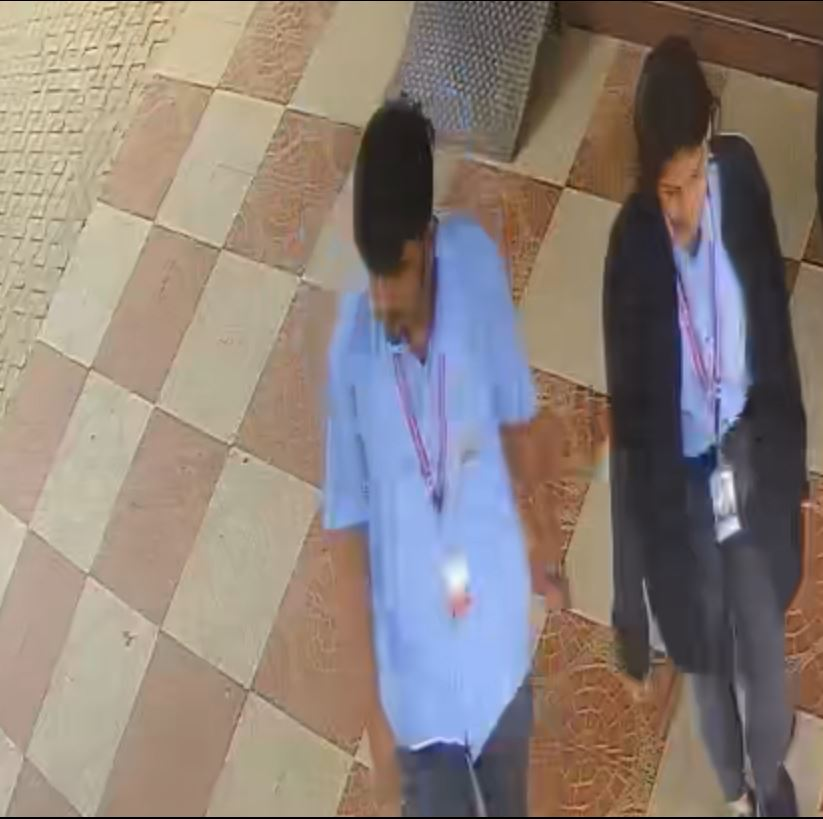not intruder: (596, 34, 823, 819), (323, 97, 547, 819)
